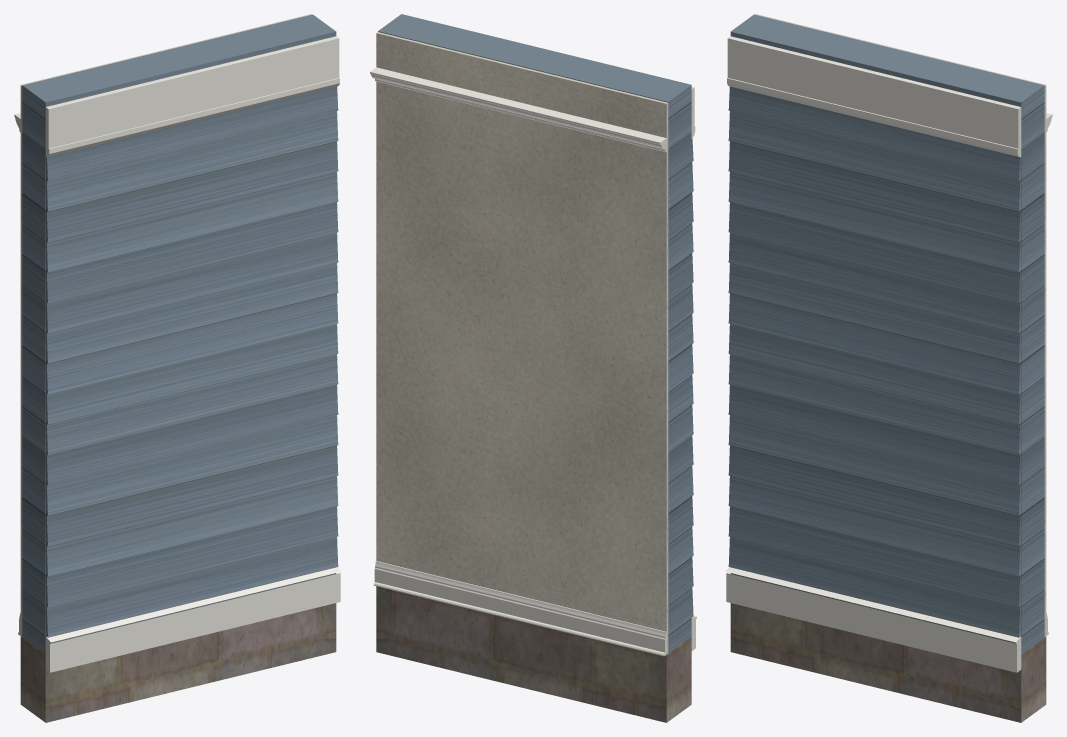
Rendered from wall_siding_plain.glb.
3 renders of one model, left to right at view 1: azimuth 30°, elevation 25°; view 2: azimuth 150°, elevation 25°; view 3: azimuth 330°, elevation 25°, orthographic.
Visible parts, largest first — view 1: wall_siding_plain_siding, wall_siding_plain_trim, wall_siding_plain_stone, wall_siding_plain_plaster; view 2: wall_siding_plain_plaster, wall_siding_plain_stone, wall_siding_plain_siding, molduras; view 3: wall_siding_plain_siding, wall_siding_plain_trim, wall_siding_plain_stone, wall_siding_plain_plaster.
Boxes of the visible parts, x1=… form: wall_siding_plain_siding: x1=22, y1=14, x2=338, y2=653; wall_siding_plain_trim: x1=45, y1=36, x2=341, y2=672; wall_siding_plain_stone: x1=20, y1=603, x2=336, y2=722; wall_siding_plain_plaster: x1=20, y1=14, x2=311, y2=636; wall_siding_plain_plaster: x1=376, y1=32, x2=668, y2=653; wall_siding_plain_stone: x1=376, y1=586, x2=691, y2=722; wall_siding_plain_siding: x1=378, y1=14, x2=693, y2=652; molduras: x1=370, y1=67, x2=666, y2=656; wall_siding_plain_siding: x1=728, y1=14, x2=1044, y2=653; wall_siding_plain_trim: x1=725, y1=36, x2=1021, y2=672; wall_siding_plain_stone: x1=730, y1=603, x2=1046, y2=722; wall_siding_plain_plaster: x1=755, y1=14, x2=1046, y2=636.
Bounding box in the file's own units: 2 × 4.08 × 0.437.
Materials: 4 (3 with a texture image).
